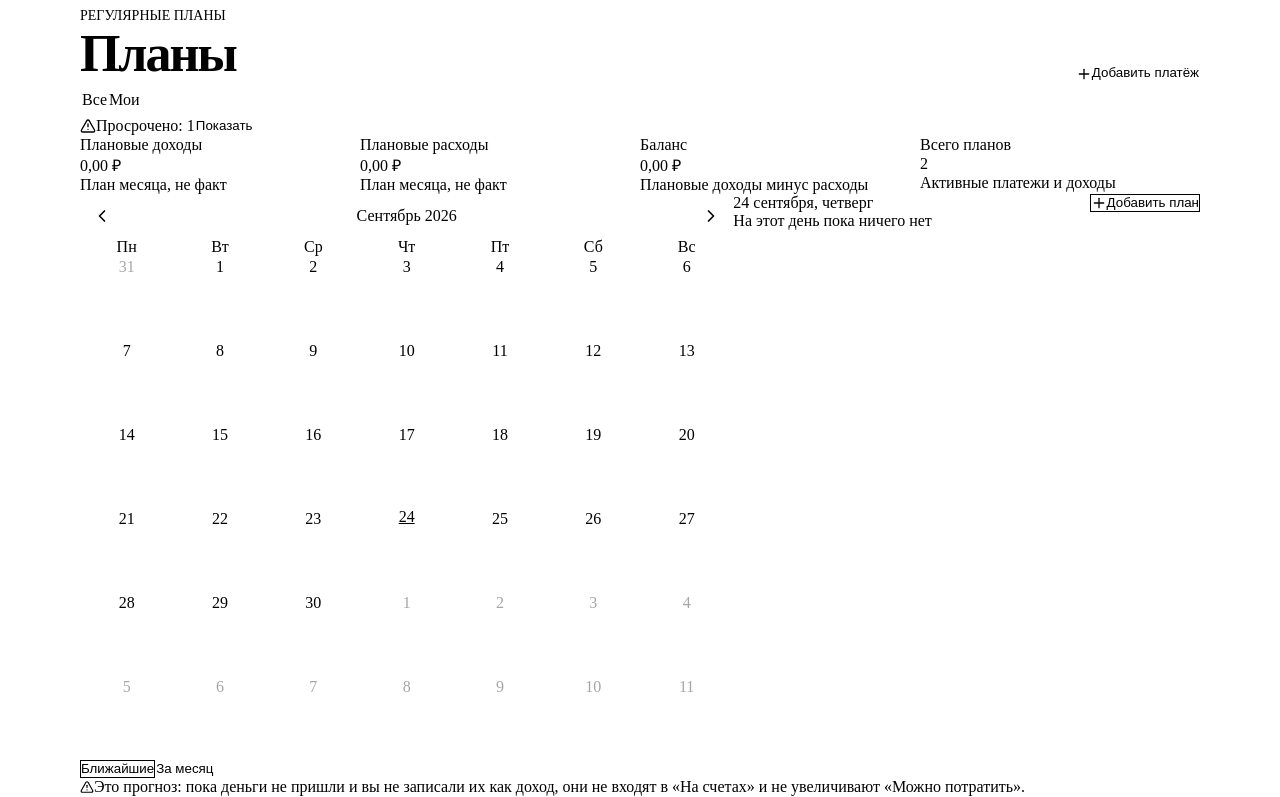
Test: plans page › shows the facts of the last selected day when an older response arrives late
Click the button with test id "calendar-day-2026-09-10" at [407, 382], box 360,340 -> 453,424
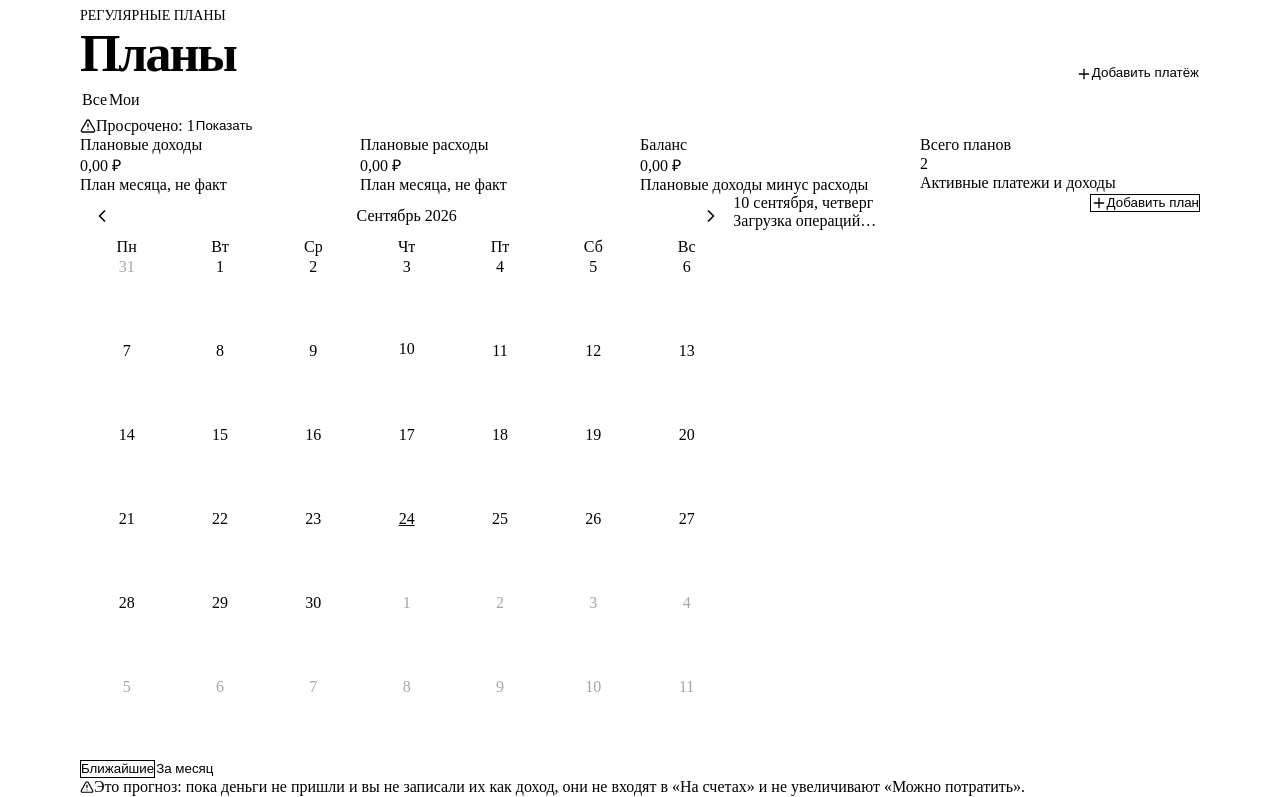
Click the button with test id "calendar-day-2026-09-11" at [500, 382], box 453,340 -> 547,424
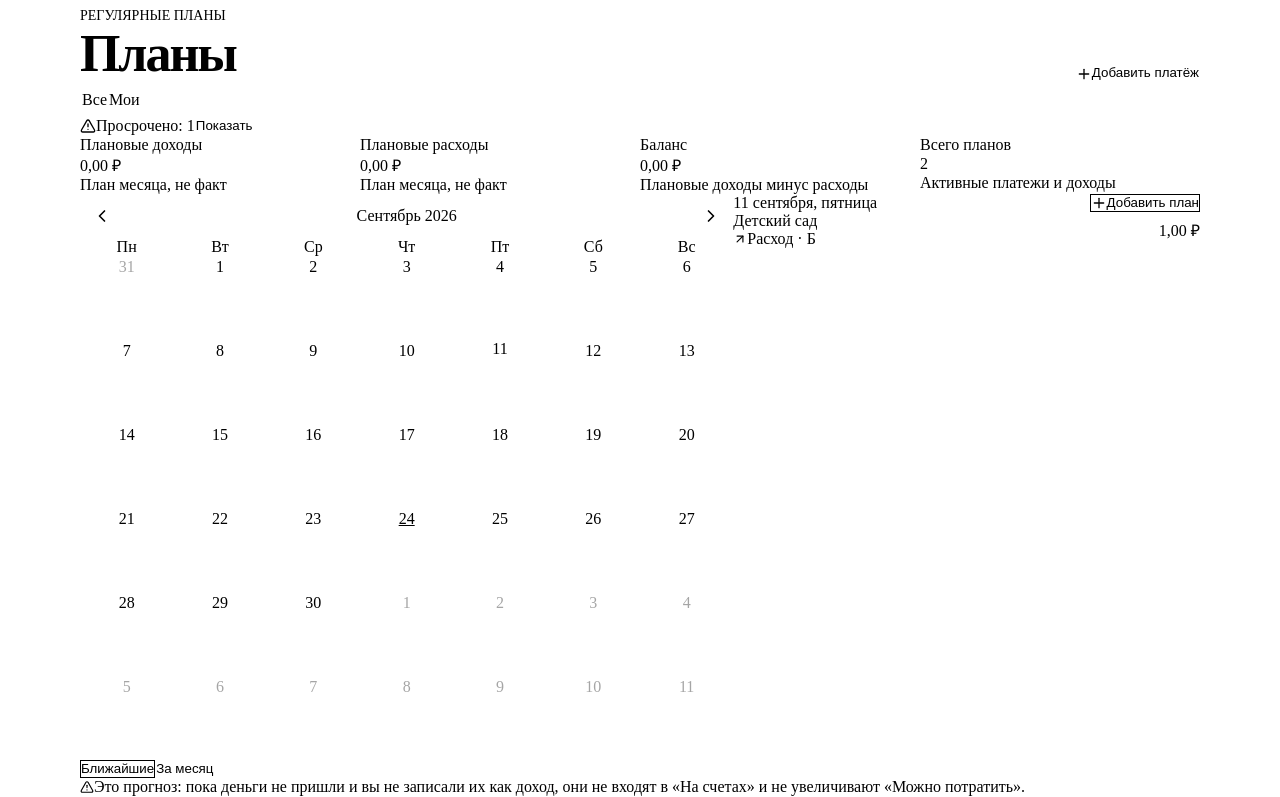
Result: the list item with test id "day-fact-tx-b" is shown at 733,212 -> 1200,248
